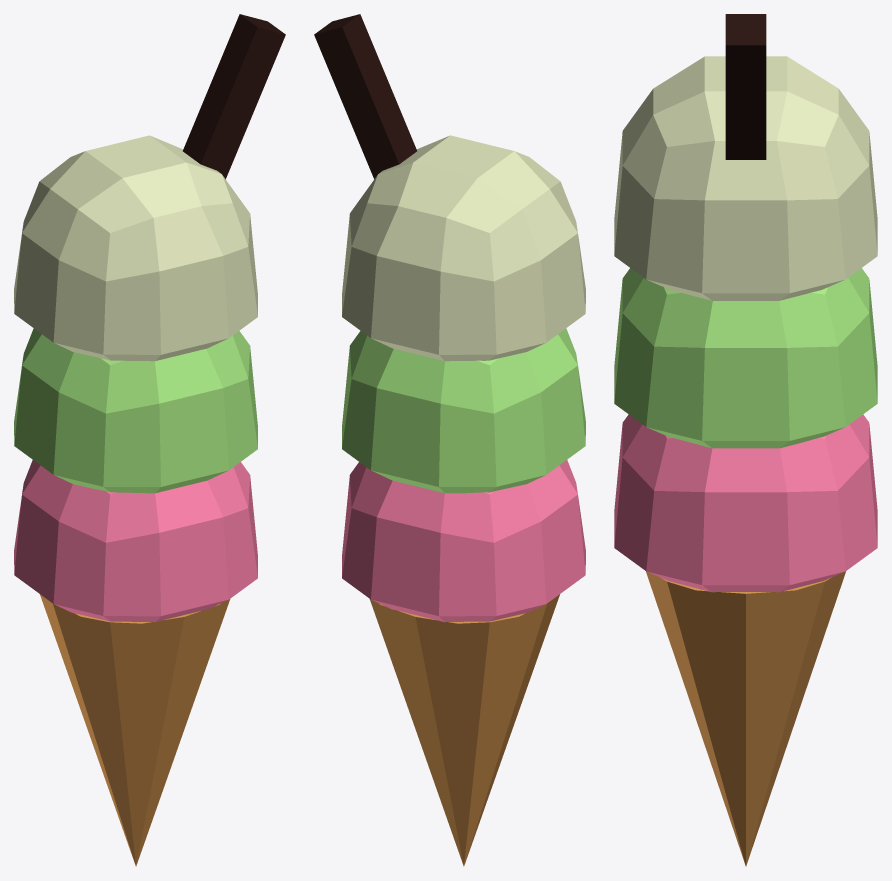
The model's file is ice_cream.fbx.
The picture shows the model from 3 angles, left to right: view 1: azimuth 30°, elevation 25°; view 2: azimuth 150°, elevation 25°; view 3: azimuth 270°, elevation 25°; orthographic projection. The views are drawn at different scales.
Visible parts, largest first — view 1: ice_cream; view 2: ice_cream; view 3: ice_cream.
Part boxes in pixels (x1,y1,x2,y2): ice_cream: (14,14,285,866); ice_cream: (314,14,585,866); ice_cream: (614,14,877,866).
Bounding box in the file's own units: 90.66 × 292 × 76.21.
